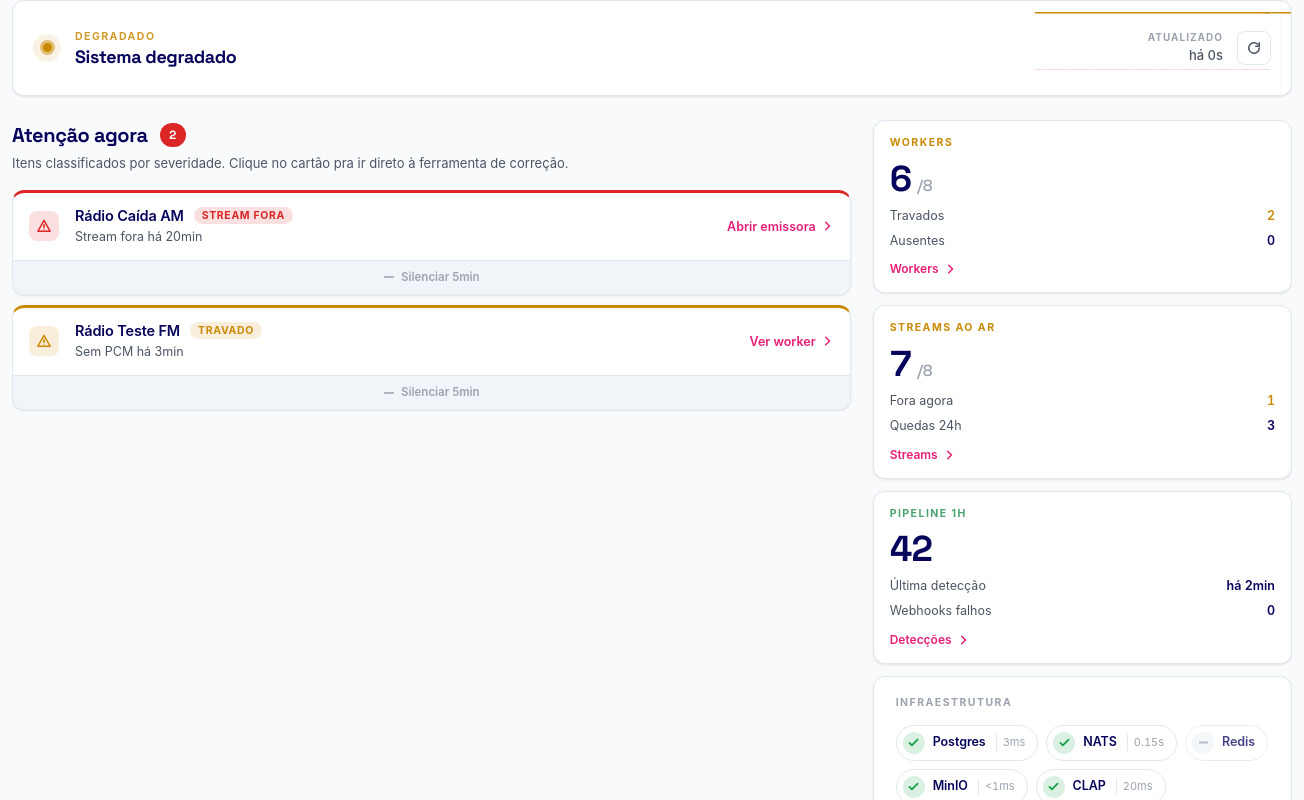
AdminOverviewPage › degradado: lista os itens de atenção, críticos primeiro, e o cartão leva à ferramenta
Expected: the heading "Sistema degradado" is shown, [75,47,236,67]
Expected: the text "Stream fora" is shown, [194,206,293,224]
Click the button that starts with "Rádio Caída AM". click: (129, 215)
box: [13,192,850,260]
(page scrolled)
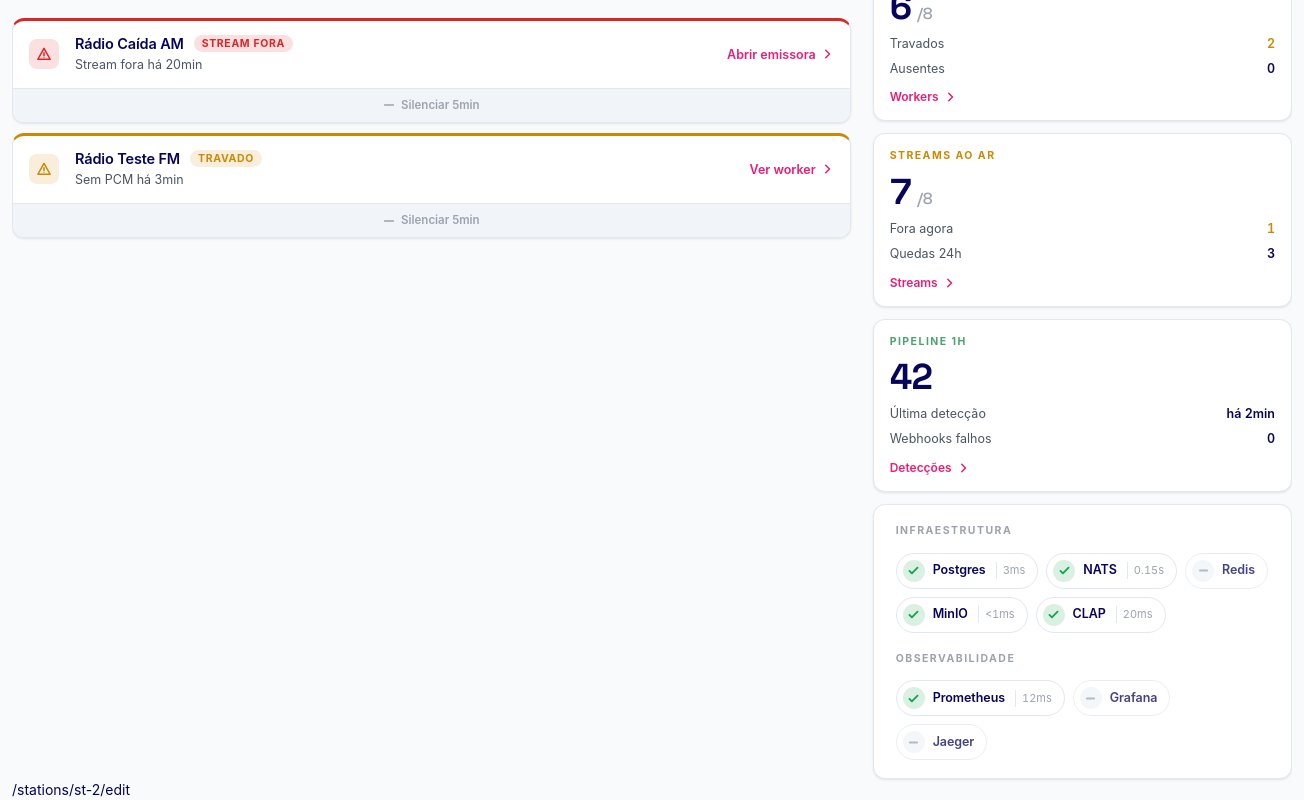
Expected: the text with test id "local" reads "/stations/st-2/edit", [12,781,130,798]
